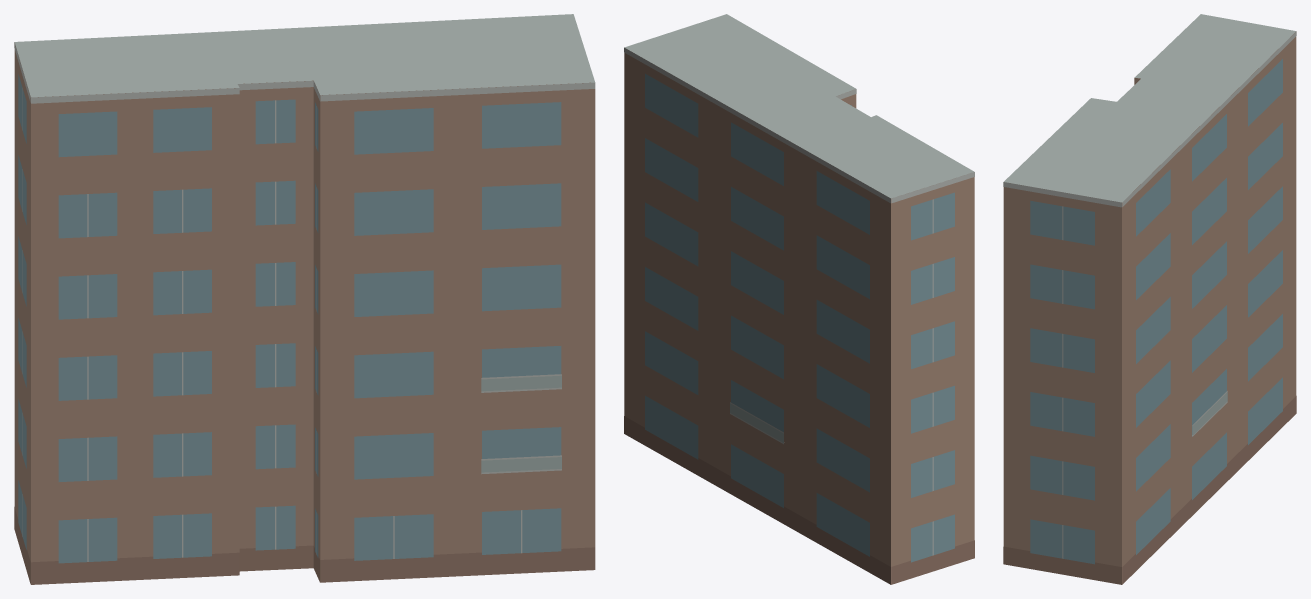
The model's file is survey-upis-32888875.glb.
The picture shows the model from 3 angles, left to right: view 1: azimuth 30°, elevation 25°; view 2: azimuth 150°, elevation 25°; view 3: azimuth 270°, elevation 25°; orthographic projection. The views are drawn at different scales.
Parts seen in each view (by area): view 1: survey-upis-32888875.tmp; view 2: survey-upis-32888875.tmp; view 3: survey-upis-32888875.tmp.
Part boxes in pixels (x1,y1,x2,y2): survey-upis-32888875.tmp: (14, 14, 595, 584); survey-upis-32888875.tmp: (624, 14, 974, 584); survey-upis-32888875.tmp: (1003, 14, 1296, 584).
Bounding box in the file's own units: 19.89 × 18.8 × 13.07.
